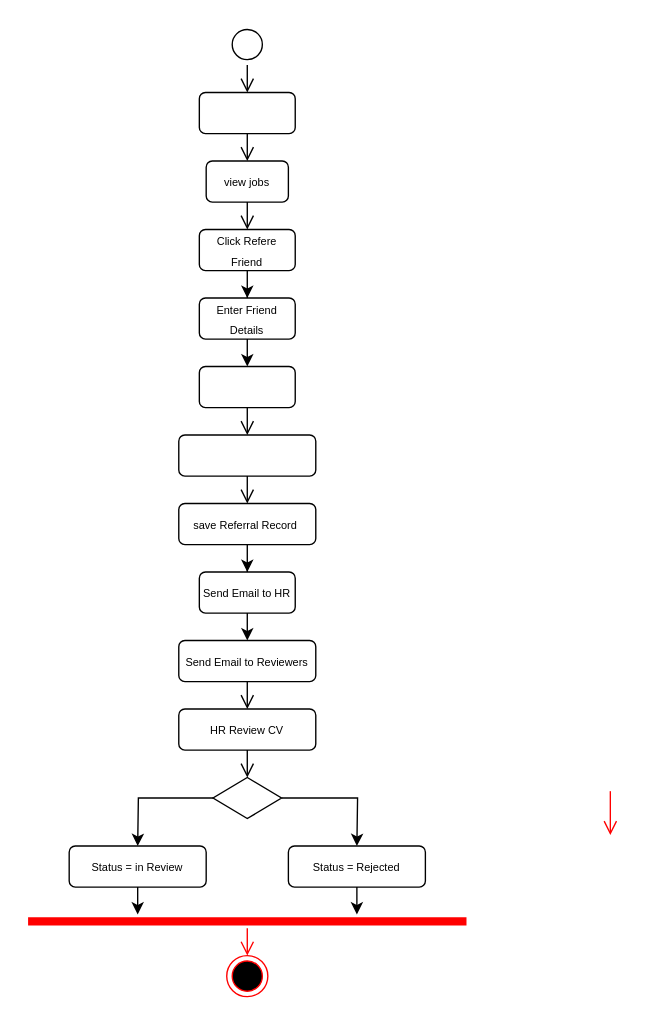
Some shapes in this 648 by 1021 pixel diagram are drawn without their labels. The box of each missing label's shape, as (x1, y1, x2, y2) in pixels:
Employee Login: (198, 91, 295, 134)
submit referral: (177, 434, 316, 476)
suitable: (212, 776, 282, 819)
upload CV: (198, 365, 295, 408)
